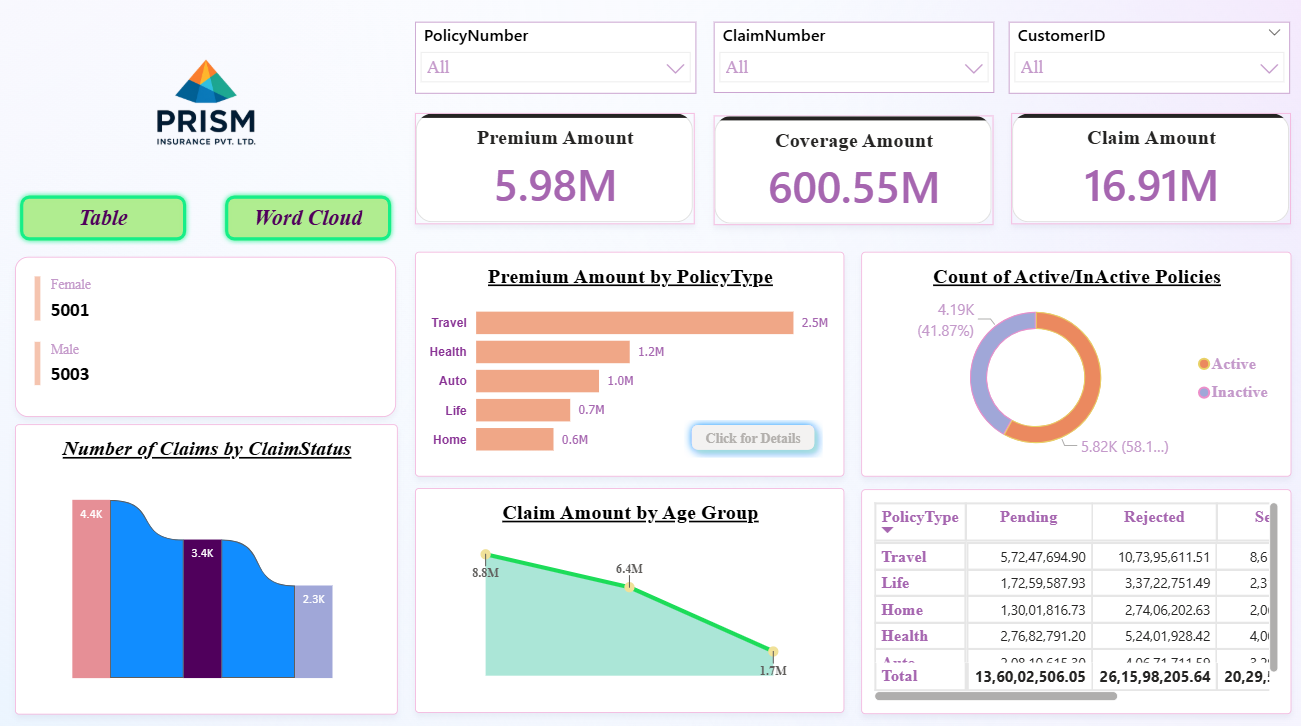

What the dashboard file says about the page in this screenshot:
{"tool":"powerbi","page":{"name":"Overview","canvas":[1280,720],"ordinal":0},"visuals":[{"type":"slicer","fields":{"Values":["InsuranceData.PolicyNumber"]},"box":[410.3,23.3,275,70],"z":0},{"type":"slicer","fields":{"Values":["InsuranceData.ClaimNumber"]},"box":[703.4,23.3,274.4,70],"z":1000},{"type":"slicer","fields":{"Values":["InsuranceData.CustomerID"]},"box":[992.1,23.3,275,70],"z":2000},{"type":"cardVisual","fields":{"Data":["Sum(InsuranceData.PremiumAmount)"]},"box":[410.8,112.9,273.8,108.7],"z":3000},{"type":"cardVisual","fields":{"Data":["Sum(InsuranceData.CoverageAmount)"]},"box":[703,114.3,273.8,107.3],"z":4000},{"type":"cardVisual","fields":{"Data":["Sum(InsuranceData.ClaimAmount)"]},"box":[993.7,112.9,273.8,108.7],"z":5000},{"type":"multiRowCard","fields":{"Values":["InsuranceData.Gender","CountNonNull(InsuranceData.Gender)"]},"box":[19.8,252.7,372.7,156.7],"z":6000},{"type":"ribbonChart","title":"Number of Claims by ClaimStatus","fields":{"Category":["InsuranceData.ClaimStatus"],"Y":["CountNonNull(InsuranceData.ClaimStatus)"]},"box":[19.6,417,374.2,283.7],"z":7000},{"type":"barChart","title":"Premium Amount by PolicyType","fields":{"Category":["InsuranceData.PolicyType"],"Y":["Sum(InsuranceData.PremiumAmount)"]},"box":[410.8,248.4,420,220],"z":8000},{"type":"lineChart","title":"Claim Amount by Age Group","fields":{"Category":["InsuranceData.Age Group"],"Y":["Sum(InsuranceData.ClaimAmount)"]},"box":[410.8,479.9,420,220],"z":9000},{"type":"donutChart","title":"Count of Active/InActive Policies","fields":{"Category":["InsuranceData.Active/InActive"],"Y":["CountNonNull(InsuranceData.Active/InActive)"]},"box":[846.9,248.4,420.6,220.2],"z":10000},{"type":"pivotTable","fields":{"Values":["Sum(InsuranceData.CoverageAmount)"],"Rows":["InsuranceData.PolicyType"],"Columns":["InsuranceData.ClaimStatus"]},"box":[847,480,421,220],"z":11000},{"type":"image","box":[19.6,23.2,373,162.6],"z":12000},{"type":"actionButton","box":[673.8,409.6,135.7,40.4],"z":13000},{"type":"actionButton","box":[19.6,188.3,172.4,53.8],"z":14000},{"type":"actionButton","box":[220.1,188.3,172.4,53.8],"z":15000}]}

Visuals, with their boxes in screenshot pixels (x1, y1, x2, y2), scaled from the page's 1280x720 canvas onto the 1301x726 screenshot:
slicer - InsuranceData.PolicyNumber: Rect(417, 23, 697, 94)
slicer - InsuranceData.ClaimNumber: Rect(715, 23, 994, 94)
slicer - InsuranceData.CustomerID: Rect(1008, 23, 1288, 94)
cardVisual - Sum(InsuranceData.PremiumAmount): Rect(418, 114, 696, 223)
cardVisual - Sum(InsuranceData.CoverageAmount): Rect(715, 115, 993, 223)
cardVisual - Sum(InsuranceData.ClaimAmount): Rect(1010, 114, 1288, 223)
multiRowCard - InsuranceData.Gender x CountNonNull(InsuranceData.Gender): Rect(20, 255, 399, 413)
"Number of Claims by ClaimStatus" ribbonChart: Rect(20, 420, 400, 707)
"Premium Amount by PolicyType" barChart: Rect(418, 250, 844, 472)
"Claim Amount by Age Group" lineChart: Rect(418, 484, 844, 706)
"Count of Active/InActive Policies" donutChart: Rect(861, 250, 1288, 473)
pivotTable - Sum(InsuranceData.CoverageAmount) x InsuranceData.PolicyType: Rect(861, 484, 1289, 706)
image: Rect(20, 23, 399, 187)
actionButton: Rect(685, 413, 823, 454)
actionButton: Rect(20, 190, 195, 244)
actionButton: Rect(224, 190, 399, 244)
